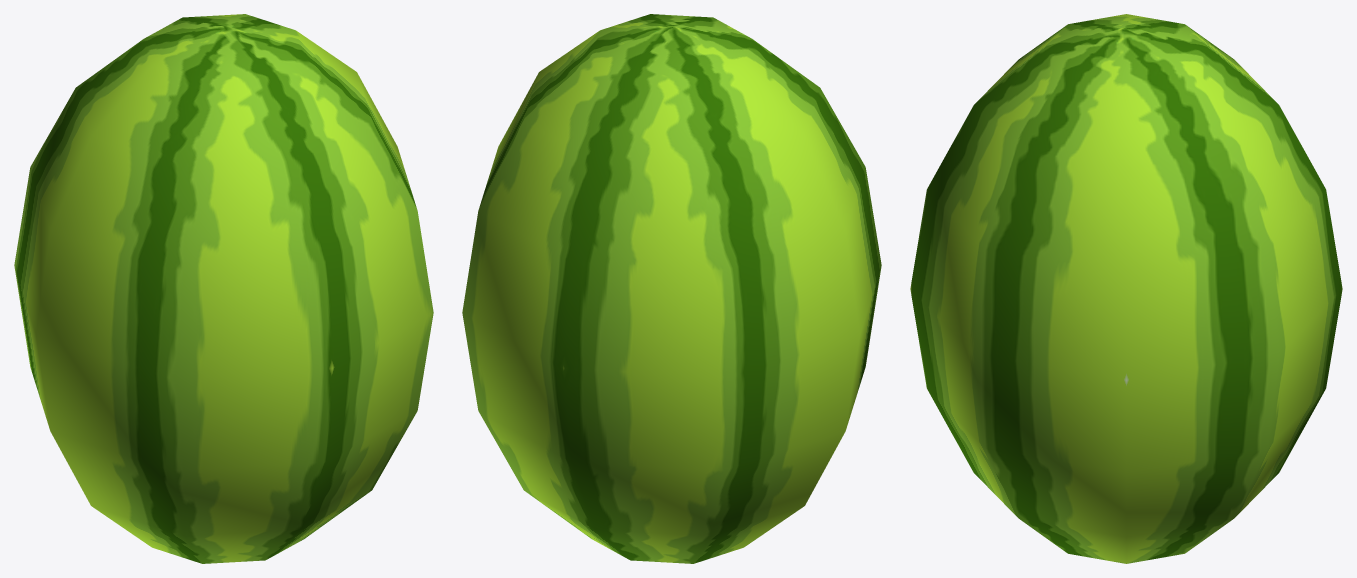
File: fulWaterMelon.fbx
3 renders of one model, left to right at view 1: azimuth 30°, elevation 25°; view 2: azimuth 150°, elevation 25°; view 3: azimuth 270°, elevation 25°, orthographic.
Parts seen in each view (by area): view 1: Sphere; view 2: Sphere; view 3: Sphere.
Boxes of the visible parts, x1,y1,x2,y2 form: Sphere: [14, 14, 433, 563]; Sphere: [462, 14, 881, 563]; Sphere: [910, 14, 1342, 563].
Size of the model in its own units: 2 by 2.65 by 2.
